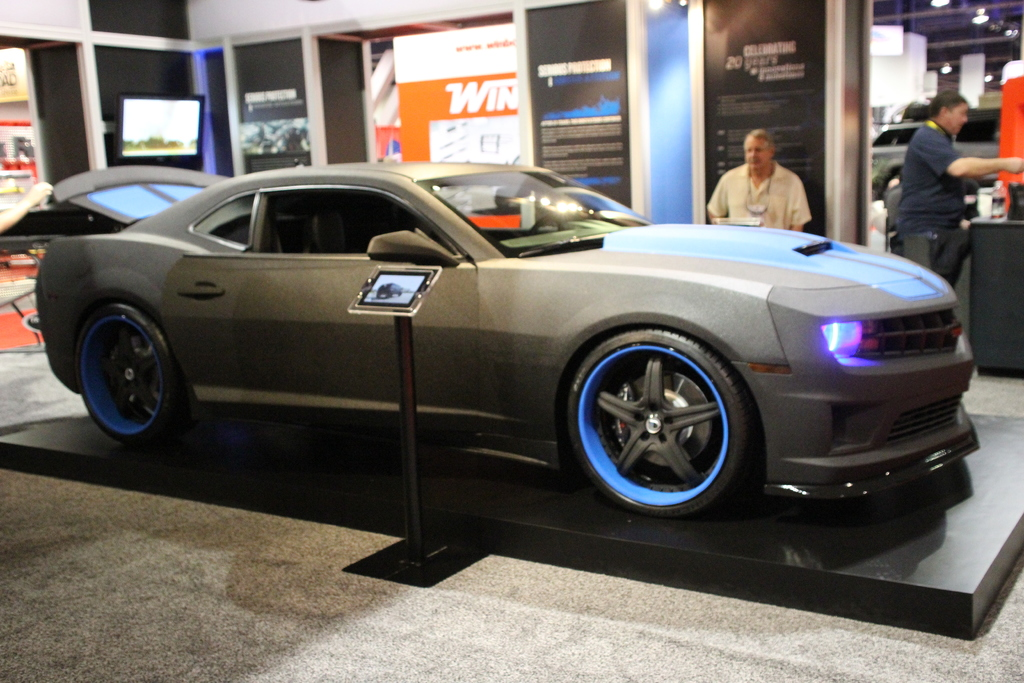Car: (24, 153, 960, 558), (867, 111, 1000, 200), (128, 133, 184, 151), (189, 135, 197, 148)
